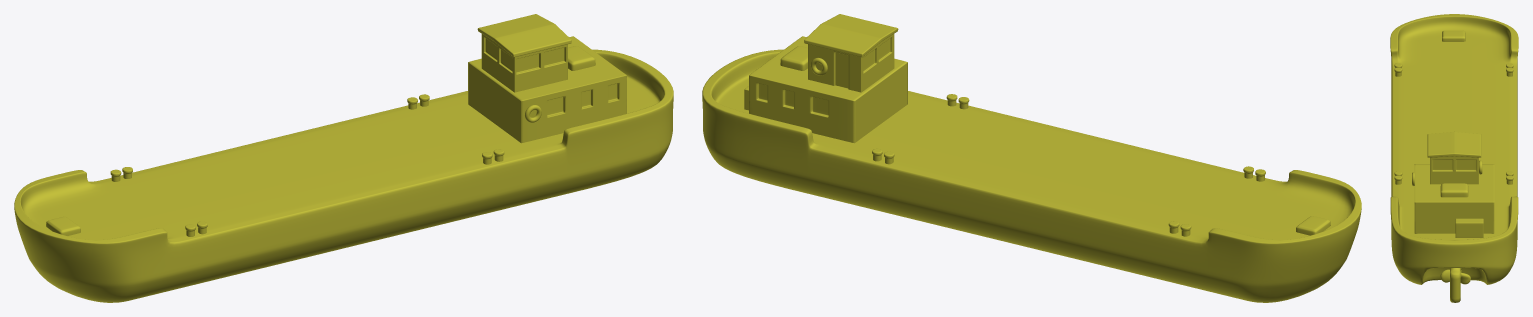
File: riverBarge.gltf
The picture shows the model from 3 angles, left to right: view 1: azimuth 30°, elevation 25°; view 2: azimuth 150°, elevation 25°; view 3: azimuth 270°, elevation 25°; orthographic projection. The views are drawn at different scales.
Parts seen in each view (by area): view 1: barge; view 2: barge; view 3: barge.
Part boxes in pixels (box(x1,y1,x2,y2)): barge: box(14, 14, 673, 302); barge: box(702, 14, 1361, 302); barge: box(1390, 14, 1518, 302).
Size of the model in its own units: 51.28 by 11.37 by 11.95.
